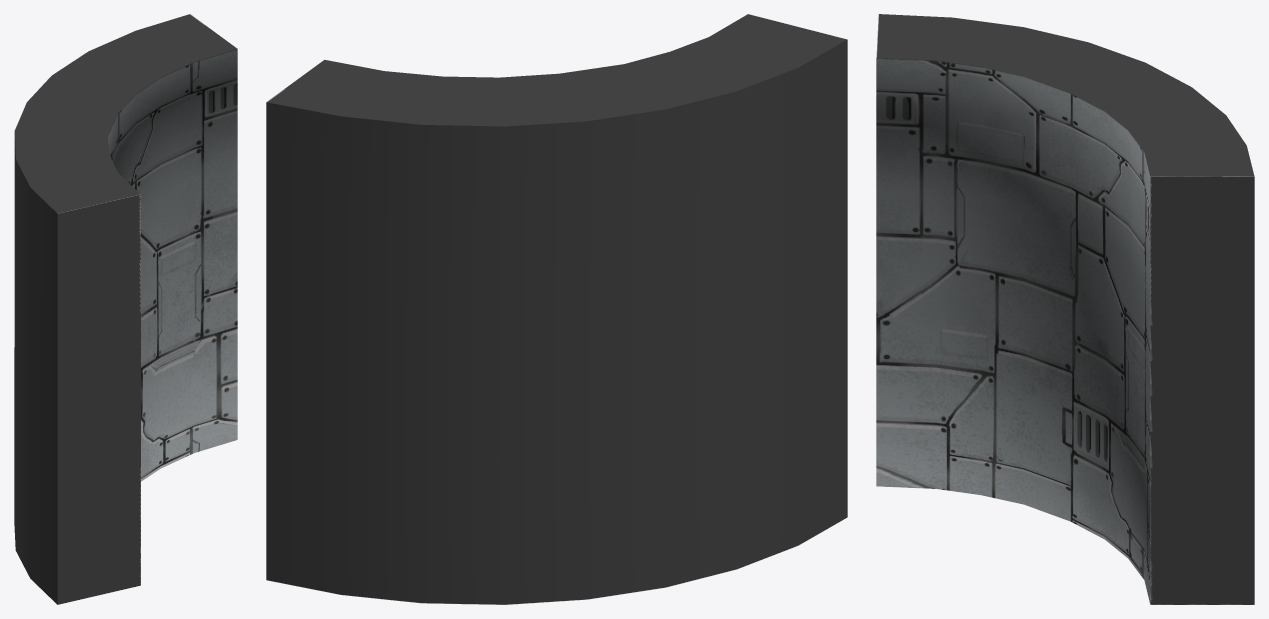
The model's file is wall flat corner.fbx.
3 views of the same model, side by side, from view 1: azimuth 30°, elevation 25°; view 2: azimuth 150°, elevation 25°; view 3: azimuth 270°, elevation 25° (orthographic). The views are drawn at different scales.
Visible parts, largest first — view 1: hörn_47; view 2: hörn_47; view 3: hörn_47.
Boxes of the visible parts, bbox=[...] form: hörn_47: bbox=[14, 14, 237, 604]; hörn_47: bbox=[266, 14, 847, 604]; hörn_47: bbox=[876, 14, 1254, 604].
Bounding box in the file's own units: 2.38 × 2.93 × 2.34.
